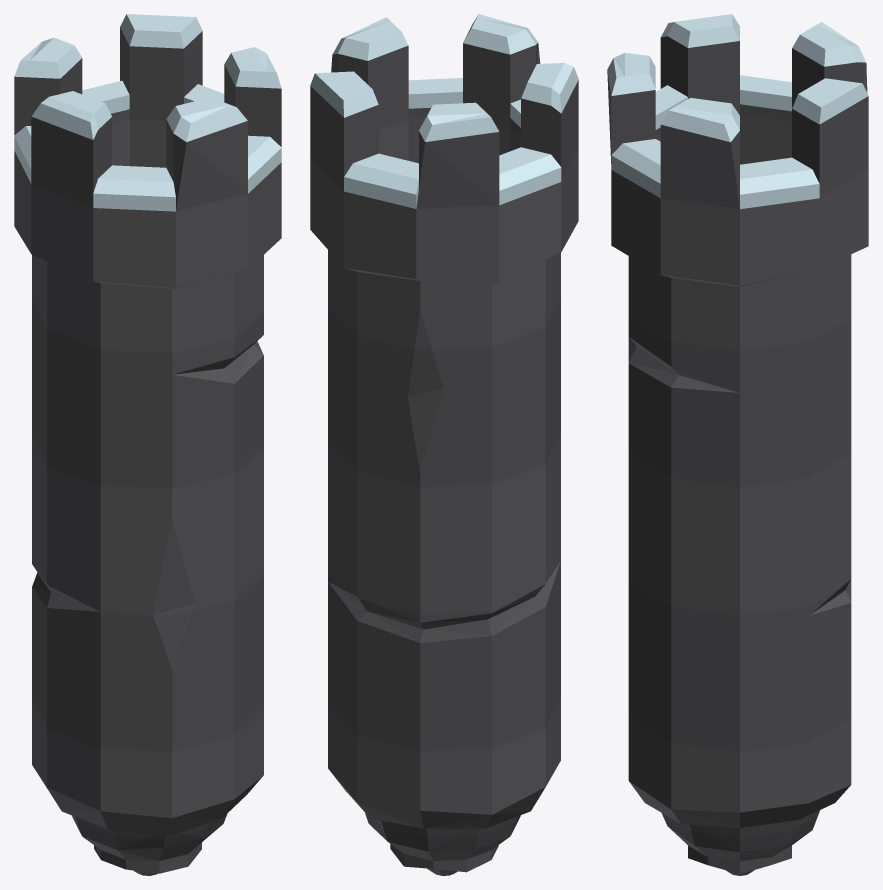
File: SM_Bld_Castle_Tower_Mini_01_Snow.gltf
The picture shows the model from 3 angles, left to right: view 1: azimuth 30°, elevation 25°; view 2: azimuth 150°, elevation 25°; view 3: azimuth 270°, elevation 25°; orthographic projection.
Parts seen in each view (by area): view 1: SM_Bld_Castle_Tower_Mini_01_Snow; view 2: SM_Bld_Castle_Tower_Mini_01_Snow; view 3: SM_Bld_Castle_Tower_Mini_01_Snow.
Boxes of the visible parts, x1=… form: SM_Bld_Castle_Tower_Mini_01_Snow: x1=14, y1=14, x2=281, y2=875; SM_Bld_Castle_Tower_Mini_01_Snow: x1=310, y1=14, x2=578, y2=875; SM_Bld_Castle_Tower_Mini_01_Snow: x1=607, y1=14, x2=868, y2=875.
Bounding box in the file's own units: 1.58 × 5.21 × 1.53.
1 material, 1 textured.
